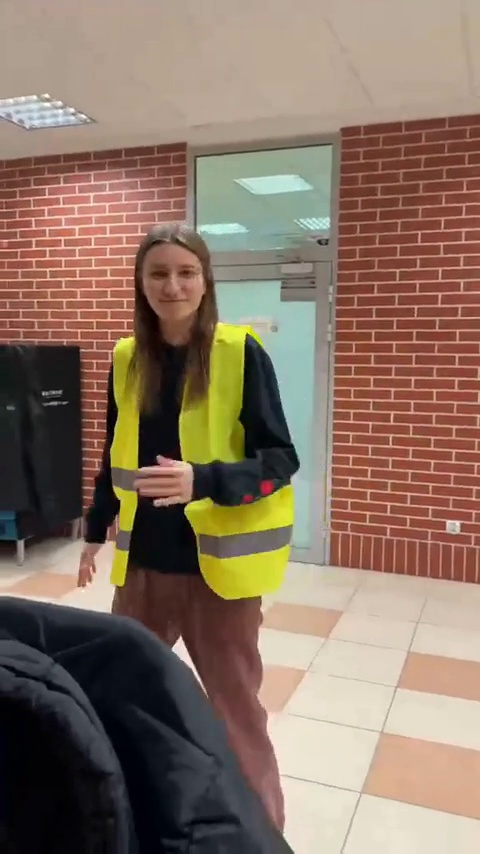vest: (74, 219, 311, 845)
